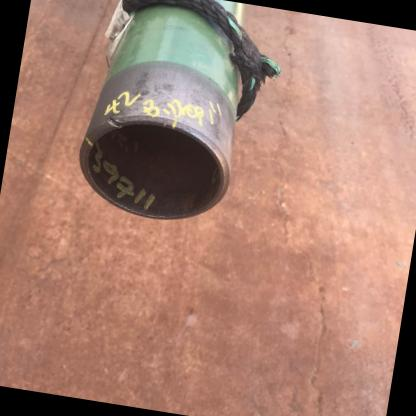Bevel: (102, 108, 127, 134)
